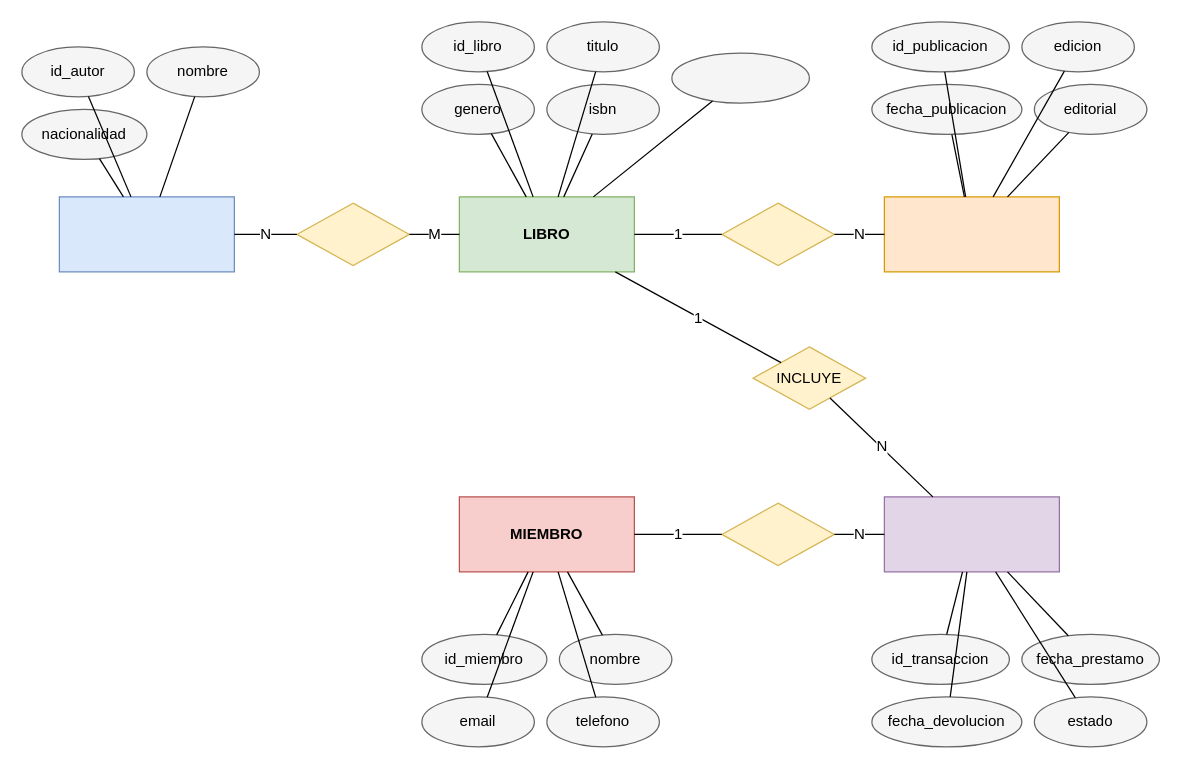
Image size: 1181x769. Some labels were removed from this diagram. The centre of each missing label's shape, as x and y in pixels:
"AUTOR" goes at (146,234).
"disponibilidad" goes at (740,77).
"ESCRIBE" goes at (352,234).
"PUBLICACION" goes at (971,234).
"REALIZA" goes at (777,534).
"TIENE" goes at (777,234).
"TRANSACCION" goes at (971,534).
